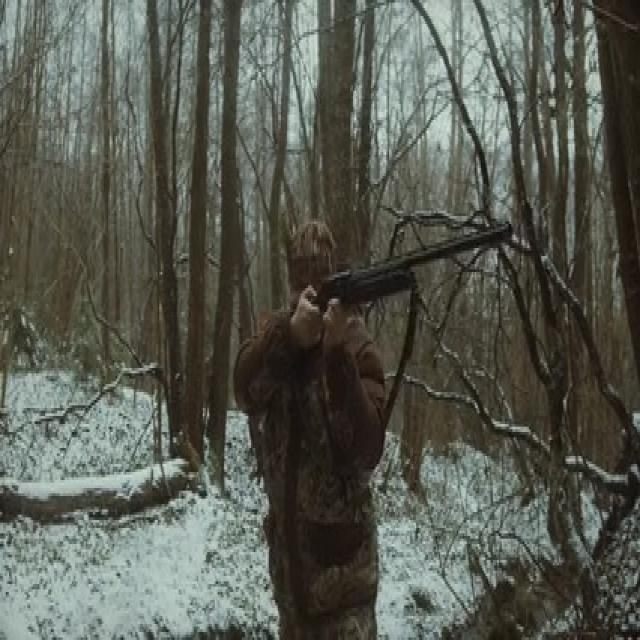Gun_Holder: (293, 221, 520, 352)
Person: (234, 205, 395, 640)
